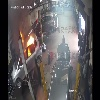fire: (18, 27, 35, 58)
